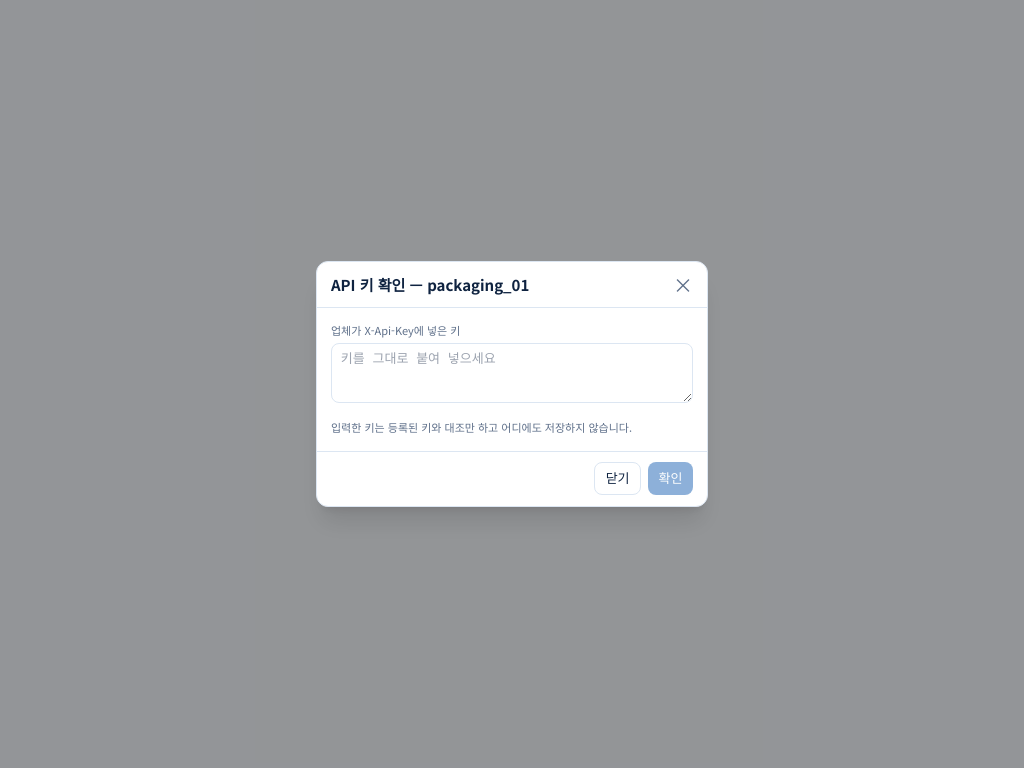
it: DeviceKeyCheckModal › 확인 실패는 오류로 보여 준다
This screenshot has width=1024, height=768.
Type "k" into the text box named "확인할 API 키" at (512, 373), box [331,343,693,403]
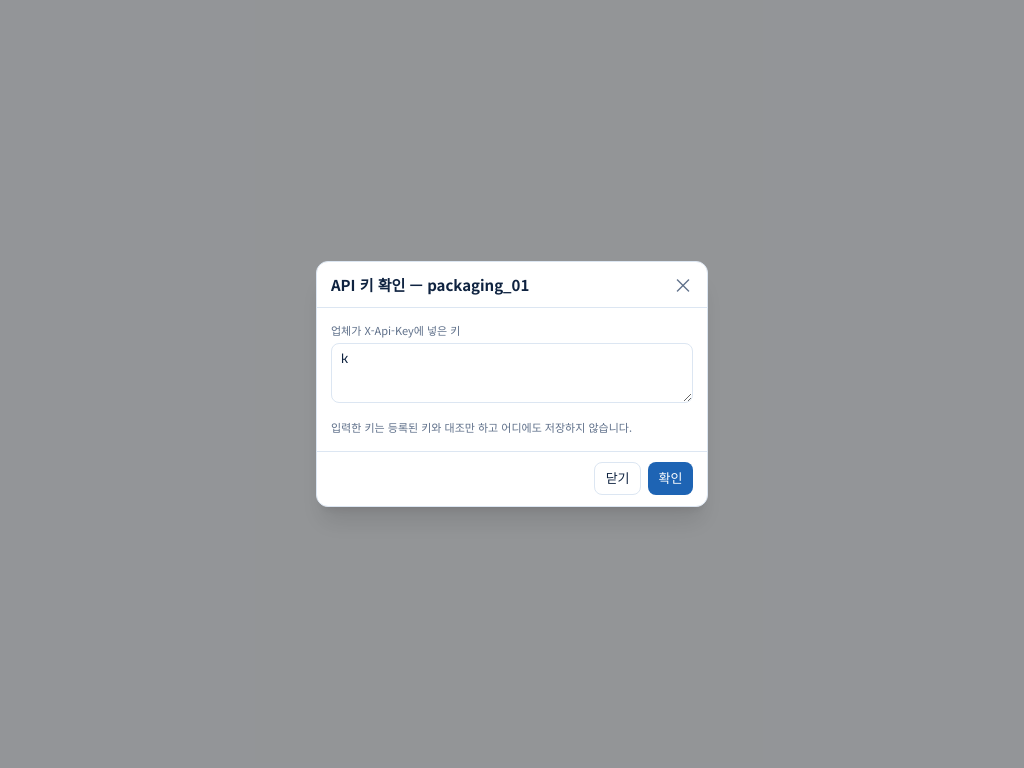
Click the button "확인" at (671, 479), box [648,462,693,495]
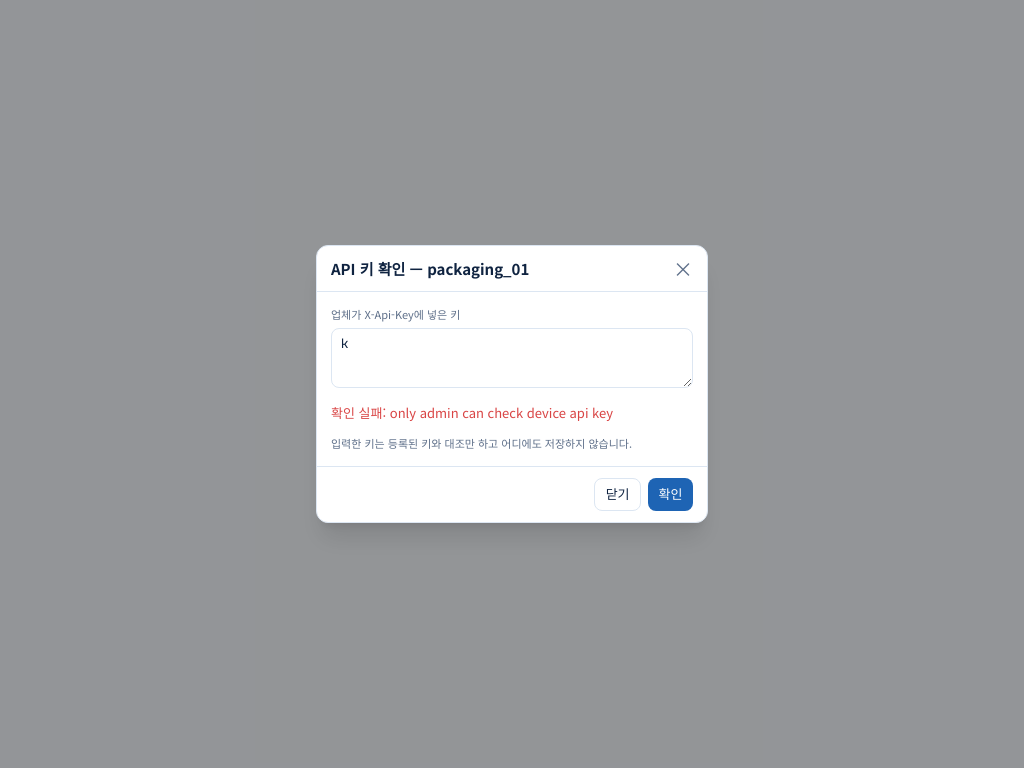
Now the message shows "only admin", box [331,403,613,422]
